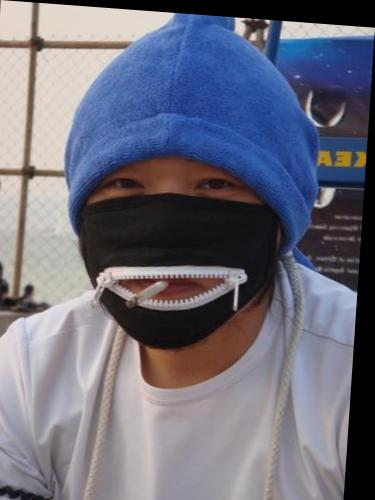WRONG: (77, 124, 276, 349)
